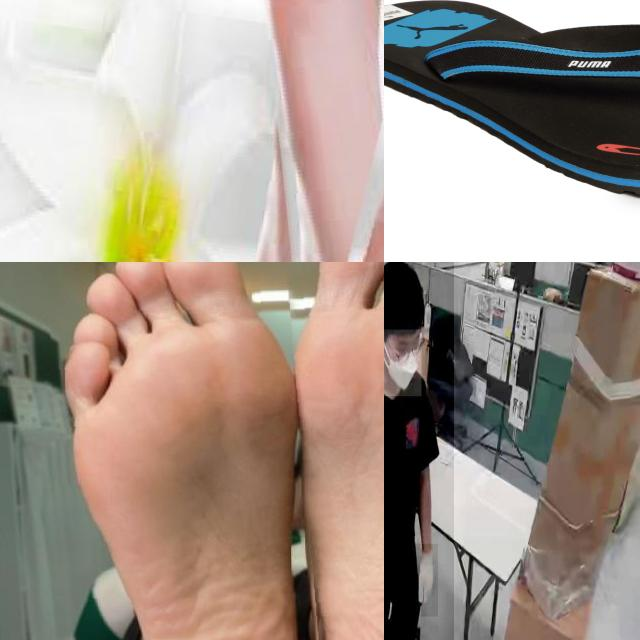Barefoots: (51, 262, 311, 640), (296, 262, 384, 640), (262, 0, 384, 262)
Sandals: (384, 0, 640, 203)
face_mask: (384, 329, 421, 396)
glasses: (395, 331, 422, 365)
hand_glove: (415, 544, 439, 618)
head_nohelmet: (384, 262, 423, 297)
person: (384, 262, 454, 640)
